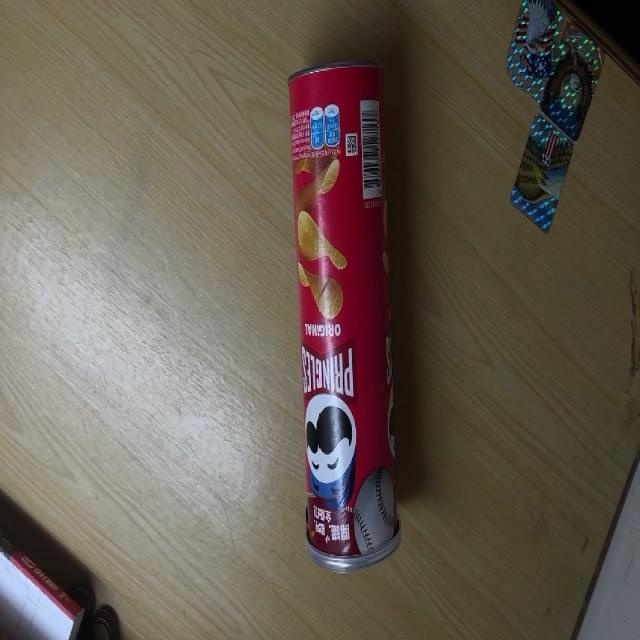Pringles: (288, 60, 400, 576)
